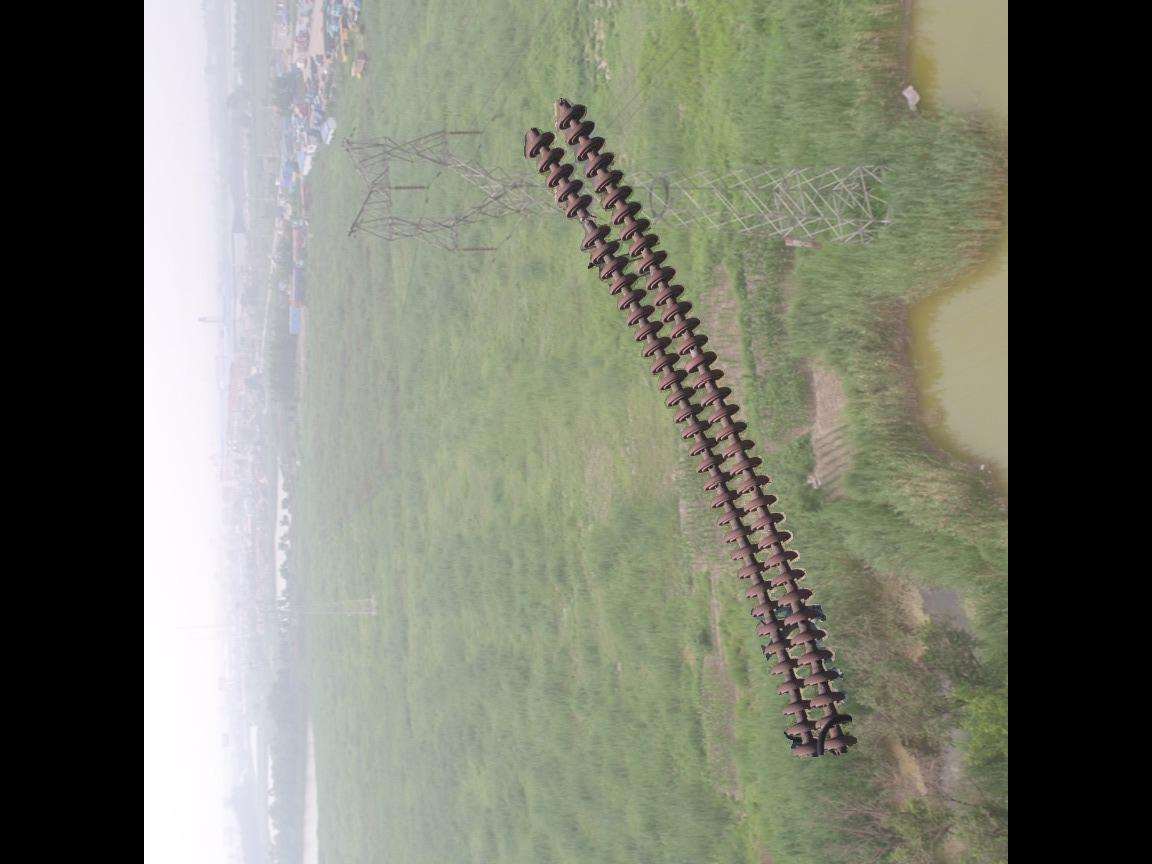insulator: (517, 99, 864, 765)
insulator_stringdrop: (561, 191, 613, 255)
